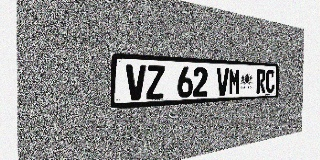2: (193, 67, 207, 97)
6: (178, 66, 193, 98)
C: (266, 70, 275, 93)
M: (229, 68, 240, 95)
R: (256, 69, 266, 94)
V: (126, 64, 146, 101), (216, 68, 229, 96)
Z: (146, 65, 165, 100)
